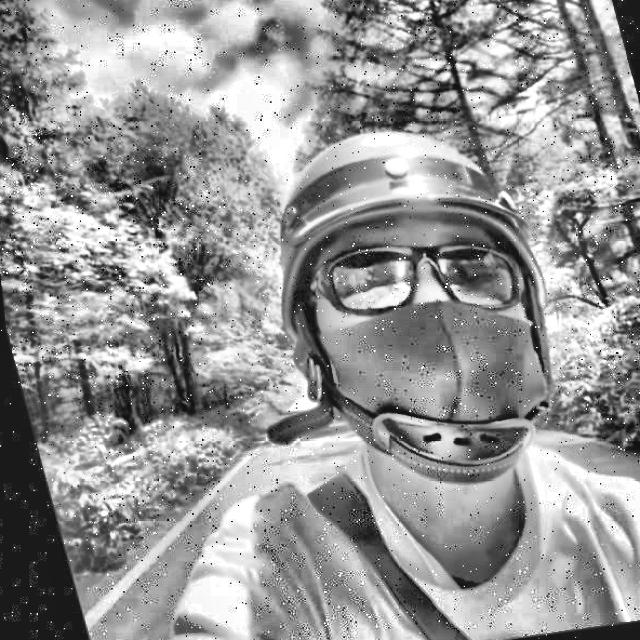Helmet: (218, 100, 599, 522)
